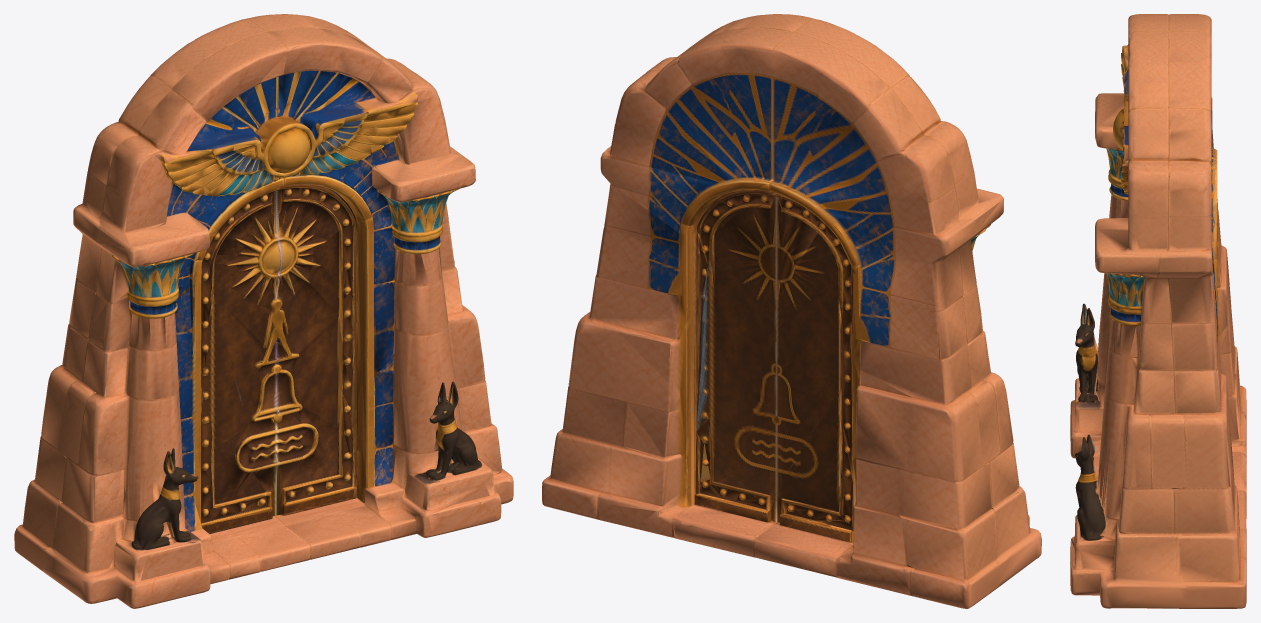
Rendered from SunGate.fbx.
The picture shows the model from 3 angles, left to right: view 1: azimuth 30°, elevation 25°; view 2: azimuth 150°, elevation 25°; view 3: azimuth 270°, elevation 25°; orthographic projection. The views are drawn at different scales.
Visible parts, largest first — view 1: Mesh_0; view 2: Mesh_0; view 3: Mesh_0.
Part boxes in pixels (x1,y1,x2,y2): Mesh_0: (14, 14, 513, 608); Mesh_0: (542, 14, 1041, 608); Mesh_0: (1070, 14, 1246, 608).
Size of the model in its own units: 171 by 190 by 63.48.
Materials: 1 (1 with a texture image).
